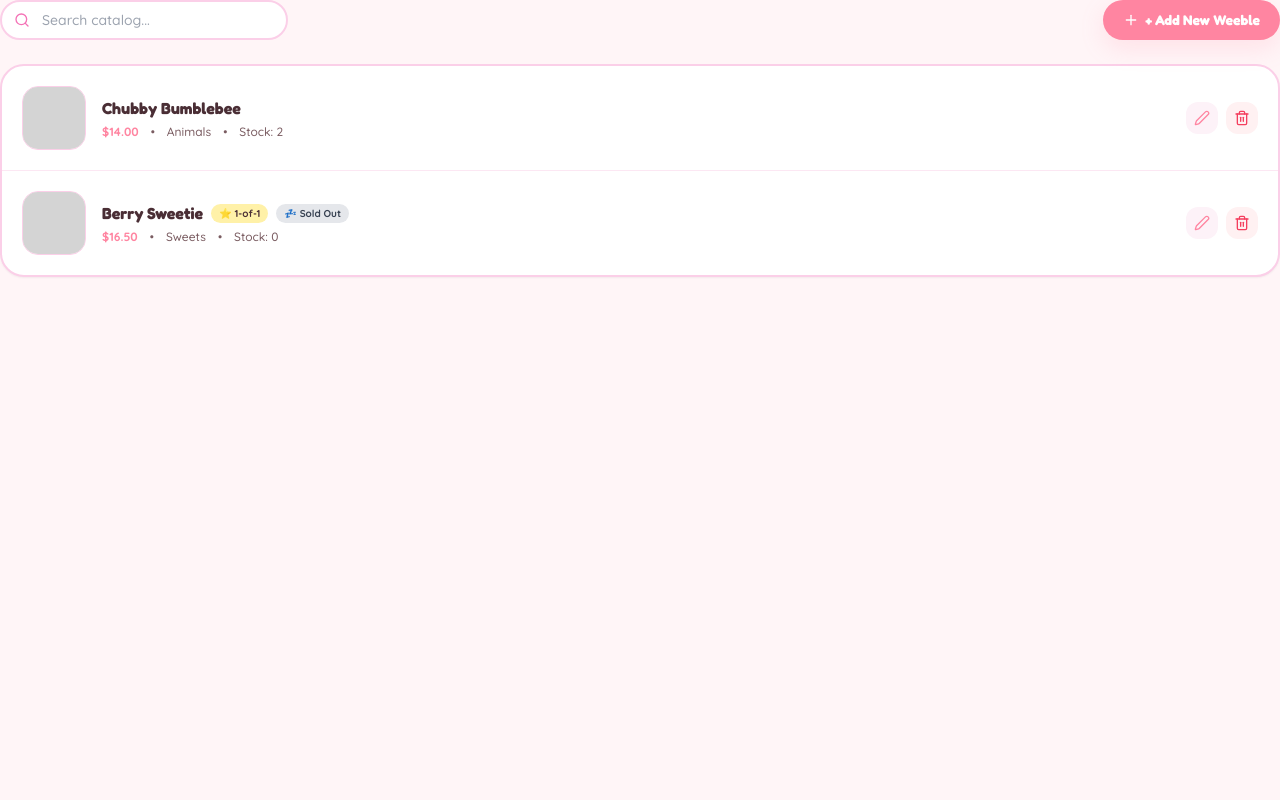
it: InventoryTab › closes editor modal with Escape key or close button
The image size is (1280, 800).
Click the button "+ Add New Weeble" at (1192, 20), box [1103,0,1279,40]
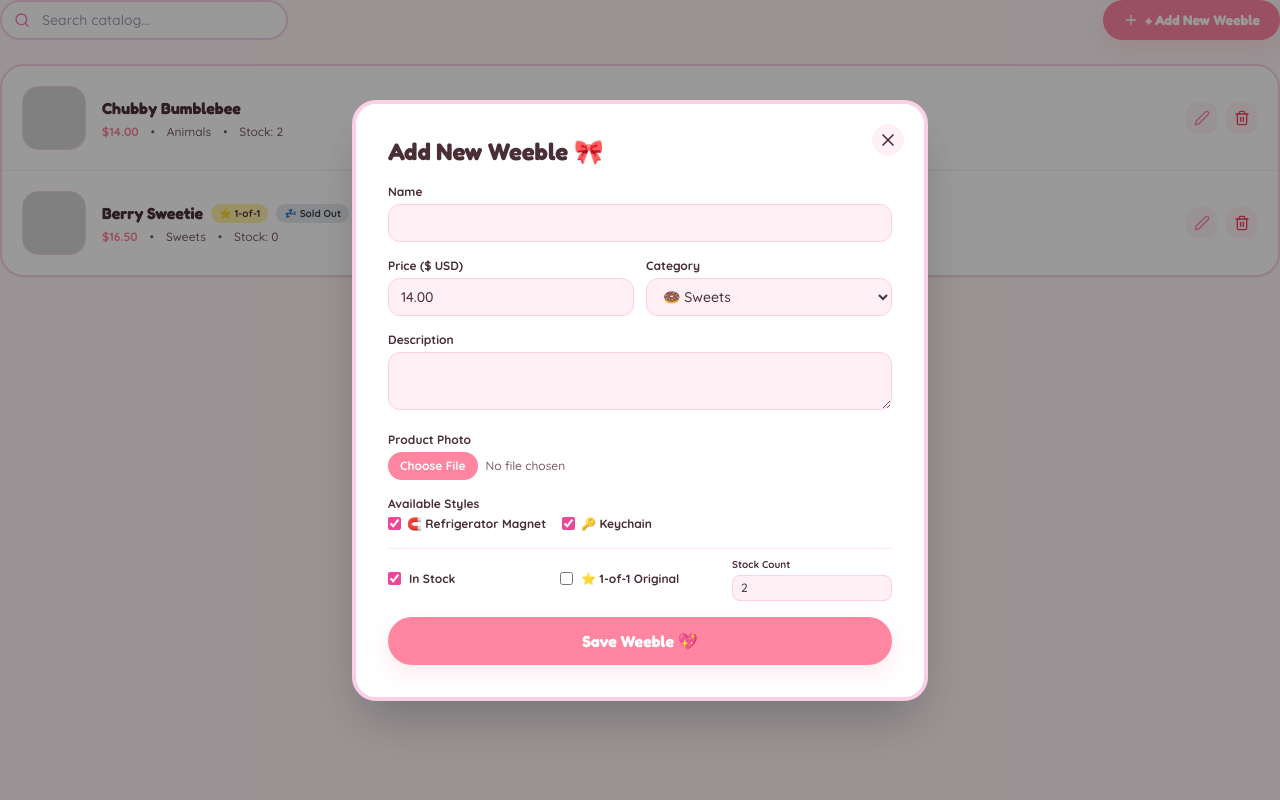
Now the dialog is shown, box [352,100,928,700]
// Escape closes modal
Press Escape
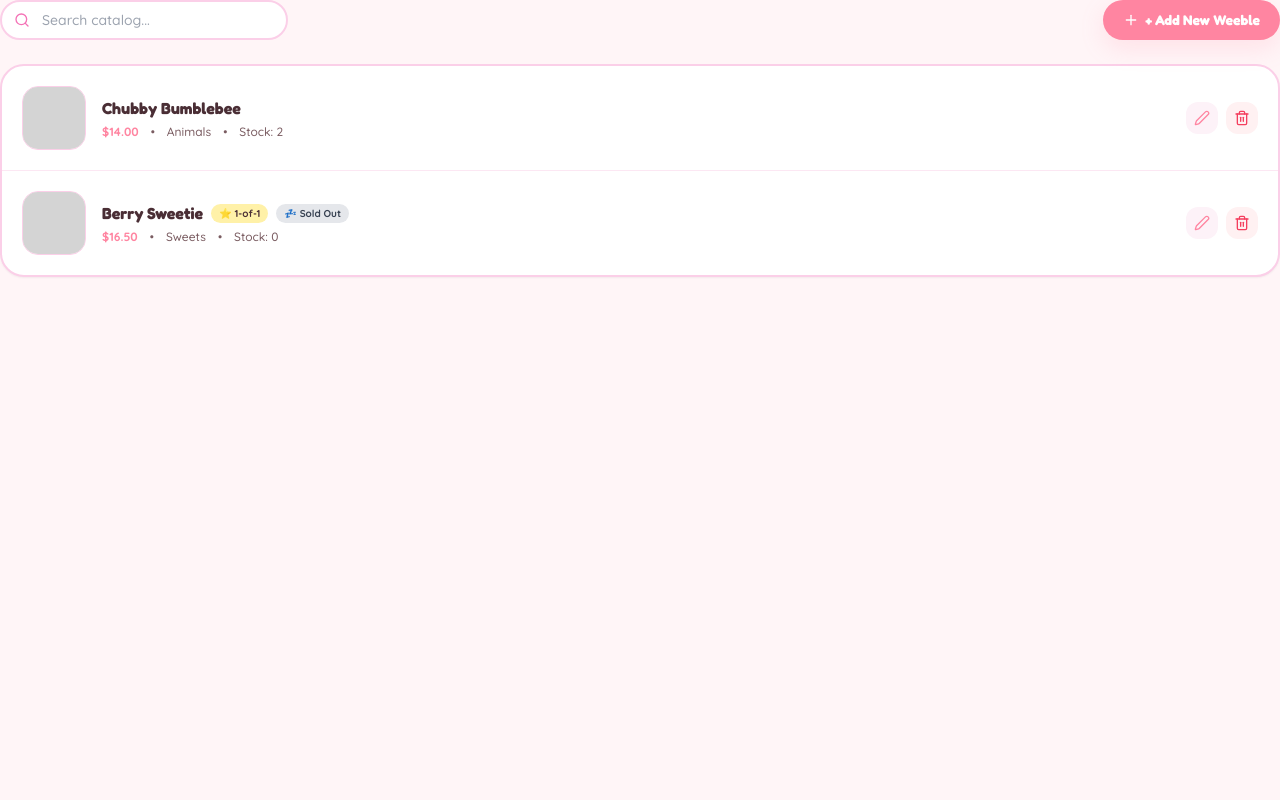
Now the dialog is gone
// Open again and click Close button
Click the button "+ Add New Weeble" at (1192, 20), box [1103,0,1279,40]
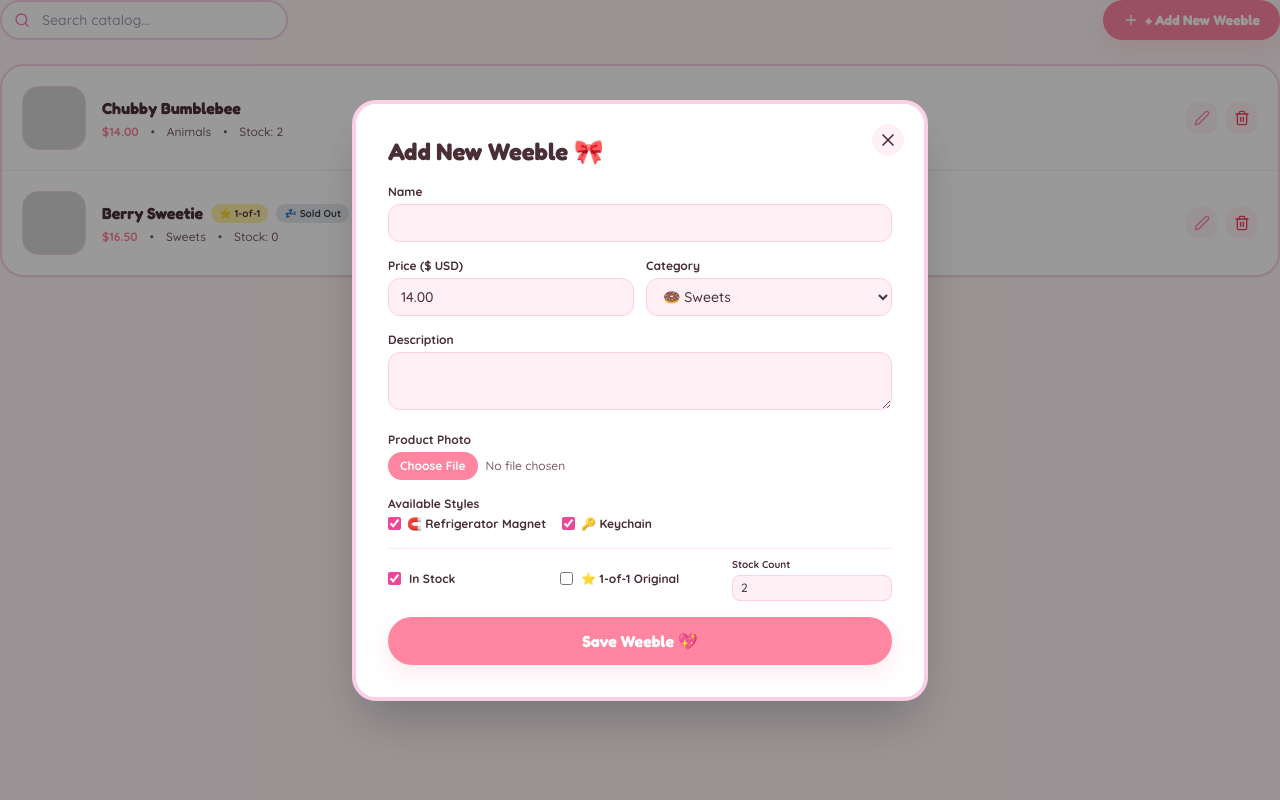
Now the dialog is shown, box [352,100,928,700]
Click the button named "Close modal" at (888, 140), box [872,124,904,156]
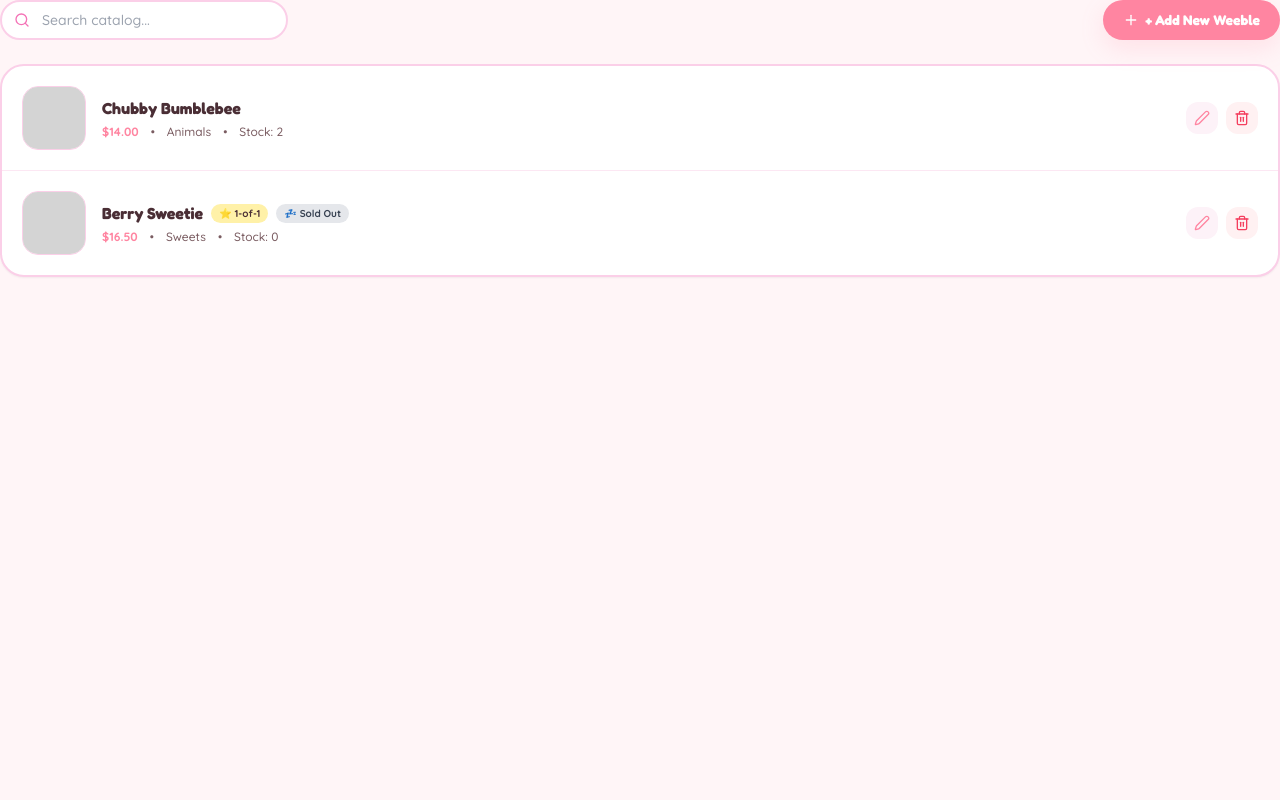
Now the dialog is gone
